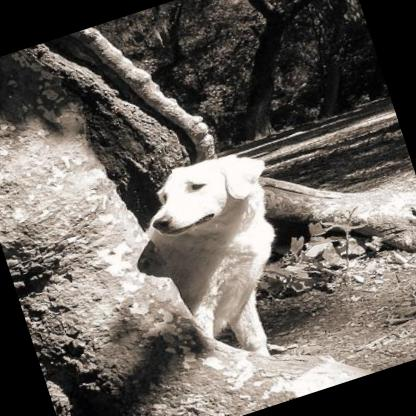kuvasz: (125, 136, 320, 380)
